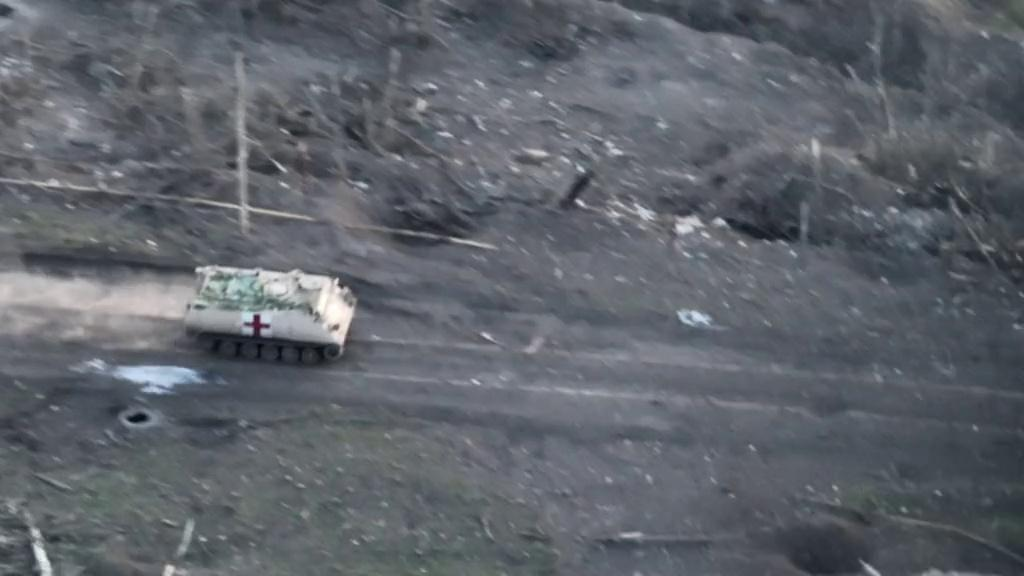vehicle: (184, 268, 362, 368)
